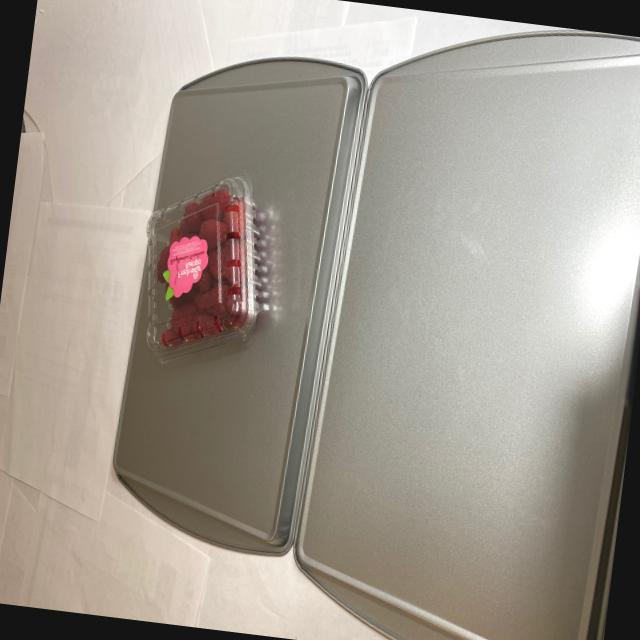raspberries: (149, 180, 273, 353)
